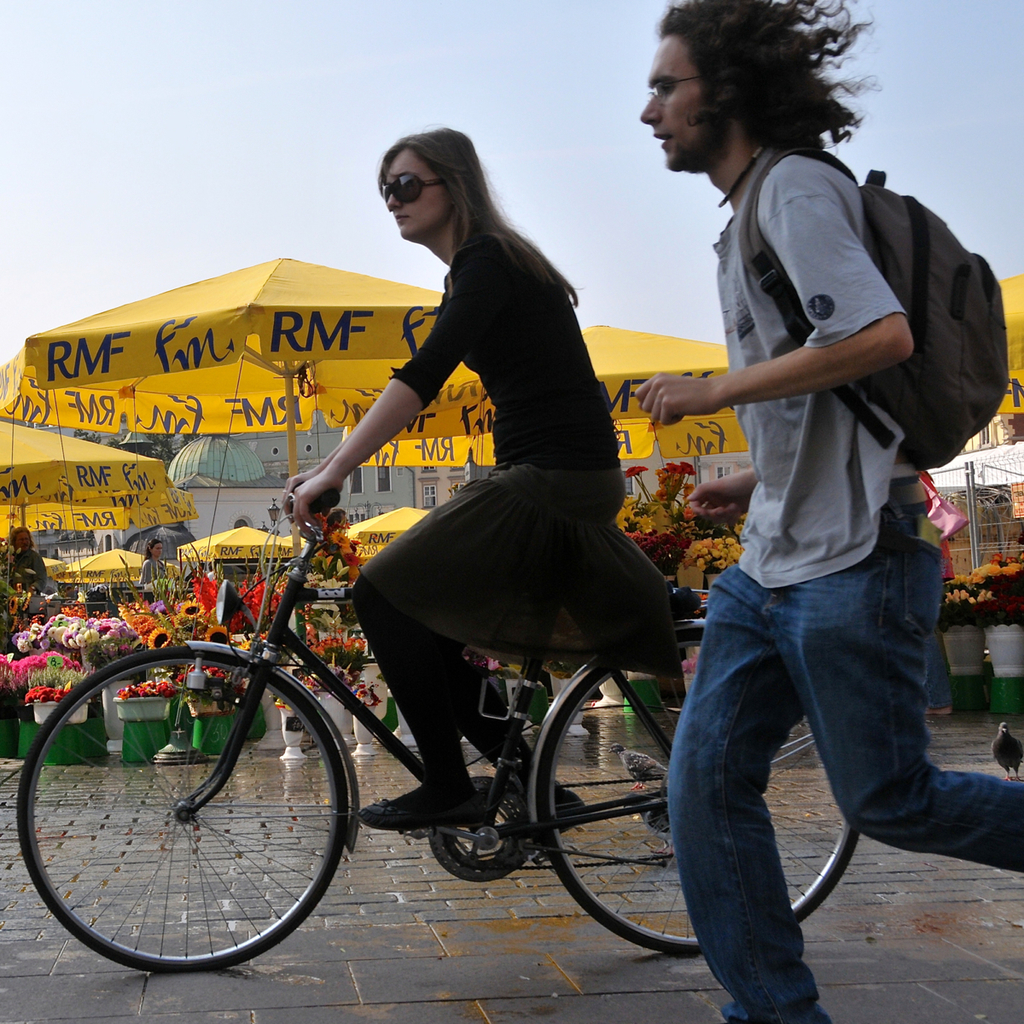Bike_away: (9, 473, 880, 970)
